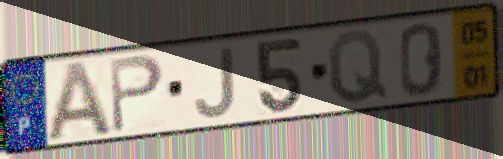0: (398, 19, 445, 100)
5: (252, 36, 306, 116)
A: (43, 57, 117, 145)
J: (192, 44, 238, 121)
P: (107, 51, 167, 136)
Q: (325, 28, 391, 106)
